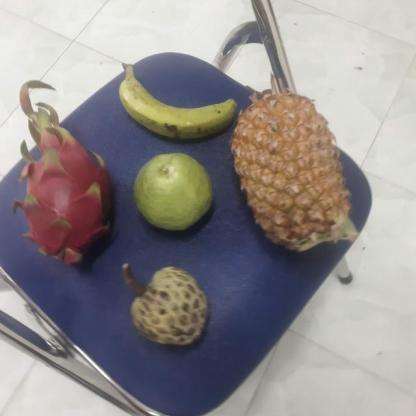annona: (129, 267, 213, 347)
banana: (121, 69, 243, 141)
guava: (134, 154, 218, 232)
pineapple: (234, 95, 350, 254)
pitaya: (19, 129, 121, 266)
